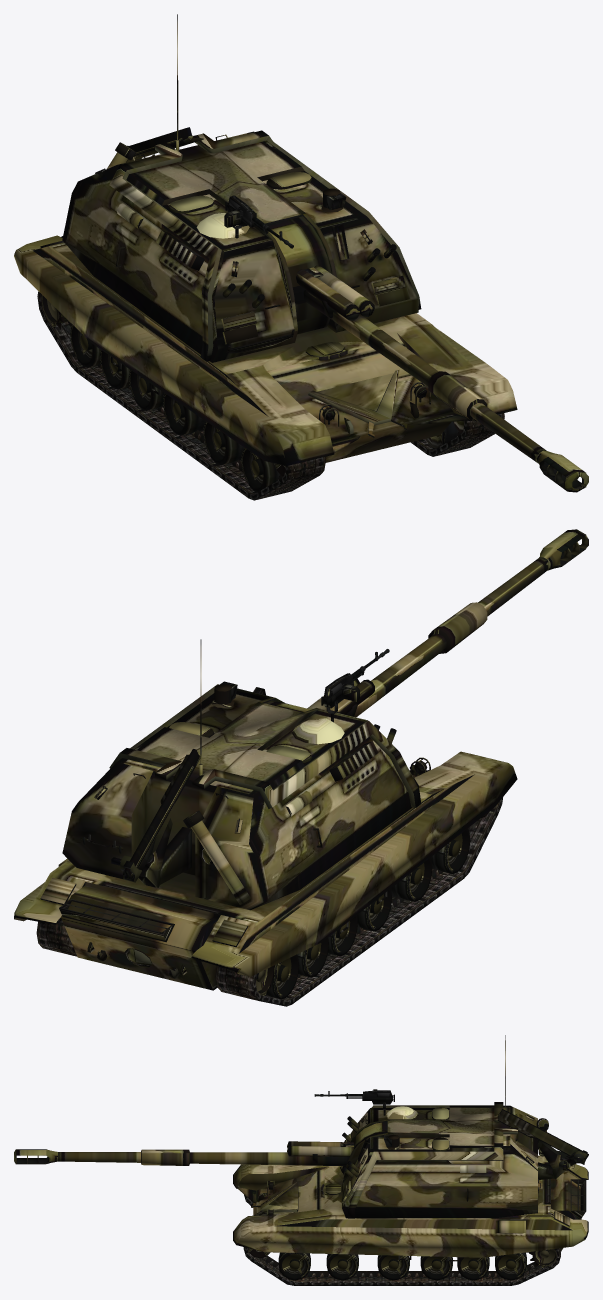
File: m_msta.glb
3 renders of one model, top to bottom at view 1: azimuth 30°, elevation 25°; view 2: azimuth 150°, elevation 25°; view 3: azimuth 270°, elevation 25°, orthographic. The views are drawn at different scales.
Bounding box in the file's own units: 3.36 × 4.72 × 11.5.
Materials: 2 (2 with a texture image).
